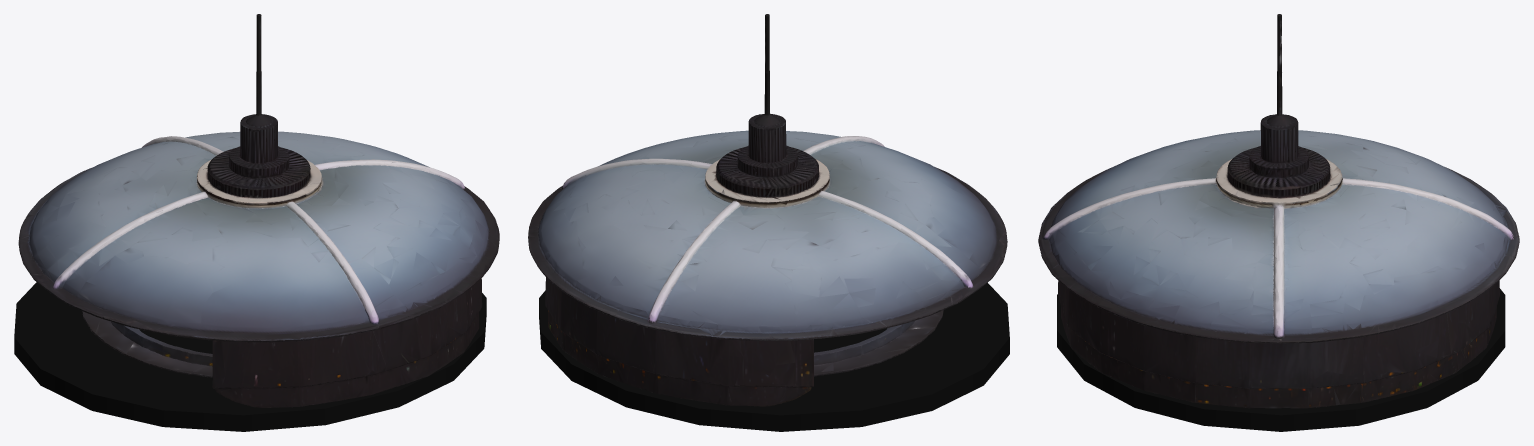
File: Estructura2.fbx
3 renders of one model, left to right at view 1: azimuth 30°, elevation 25°; view 2: azimuth 150°, elevation 25°; view 3: azimuth 270°, elevation 25°, orthographic.
Visible parts, largest first — view 1: Estructura2, BaseExterior; view 2: Estructura2, BaseExterior; view 3: Estructura2, BaseExterior.
Boxes of the visible parts, x1,y1,x2,y2 form: Estructura2: (18,14,499,407); BaseExterior: (14,282,486,431); Estructura2: (528,14,1007,406); BaseExterior: (539,282,1009,431); Estructura2: (1038,14,1519,408); BaseExterior: (1057,288,1505,431).
Bounding box in the file's own units: 42.31 × 30.13 × 41.28.
Materials: 2 (1 with a texture image).
